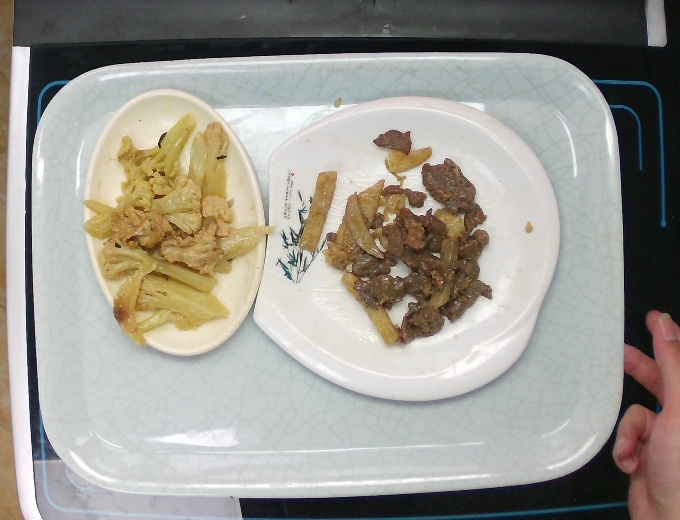JYsf-Mian_Pan: (247, 88, 587, 407)
JYsf-Tuo_Yuan_Wan: (77, 86, 275, 361)
